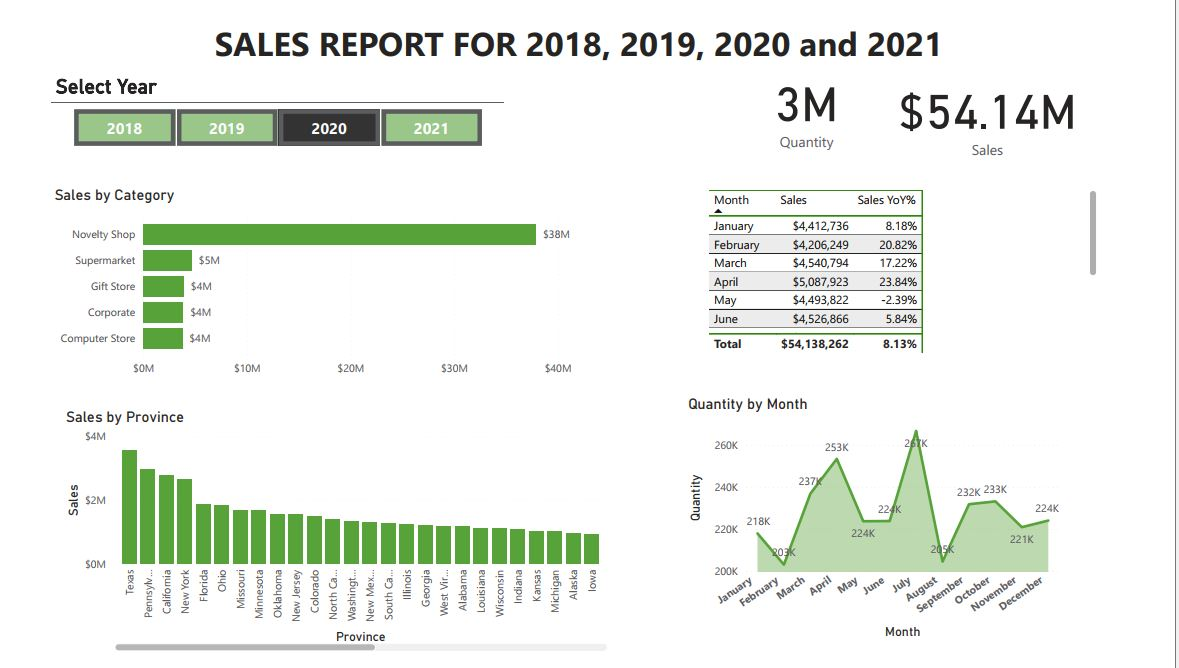

This screenshot's page, from the dashboard's own definition file:
{"tool":"powerbi","page":{"name":"Report","canvas":[1280,720],"ordinal":0},"visuals":[{"type":"clusteredBarChart","title":"Sales by Category","fields":{"Y":["Sum(InvoiceData.Sales)"],"Category":["MasterCustomer.CustomerCategoryName"]},"box":[35,190.7,619.9,225.7],"z":0},{"type":"slicer","title":"Select Year","fields":{"Values":["InvoiceData.Date.Variation.Date Hierarchy.Year"]},"box":[35.9,66.1,510.2,83.2],"z":1000},{"type":"tableEx","fields":{"Values":["InvoiceData.Date.Variation.Date Hierarchy.Month","Sum(InvoiceData.Sales)","InvoiceData.Sales YoY%"]},"box":[772.5,190.7,427.5,192.3],"z":2000},{"type":"lineStackedColumnComboChart","fields":{"Category":["MasterCustomer.Province"],"Y":["Sum(InvoiceData.Sales)"]},"box":[47.7,440.6,620.3,279.9],"z":3000},{"type":"lineChart","fields":{"Y":["Sum(InvoiceData.Quantity)"],"Category":["InvoiceData.Date.Variation.Date Hierarchy.Month"]},"box":[750,427,428,280],"z":4000},{"type":"textbox","box":[192.8,0,876.9,81.3],"z":5000},{"type":"card","fields":{"Values":["Sum(InvoiceData.Quantity)"]},"box":[813,51,151,104],"z":6000},{"type":"card","fields":{"Values":["Sum(InvoiceData.Sales)"]},"box":[963.8,58.6,257,105.8],"z":7000}]}

Visuals, with their boxes in screenshot pixels (x1, y1, x2, y2), scaled from the page's 1280x720 canvas onto the 1179x668 screenshot:
"Sales by Category" clusteredBarChart: BBox(32, 177, 603, 386)
"Select Year" slicer: BBox(33, 61, 503, 139)
tableEx - InvoiceData.Date.Variation.Date Hierarchy.Month x Sum(InvoiceData.Sales): BBox(712, 177, 1105, 355)
lineStackedColumnComboChart - MasterCustomer.Province x Sum(InvoiceData.Sales): BBox(44, 409, 615, 667)
lineChart - Sum(InvoiceData.Quantity) x InvoiceData.Date.Variation.Date Hierarchy.Month: BBox(691, 396, 1085, 656)
textbox: BBox(178, 0, 985, 75)
card - Sum(InvoiceData.Quantity): BBox(749, 47, 888, 144)
card - Sum(InvoiceData.Sales): BBox(888, 54, 1124, 153)
